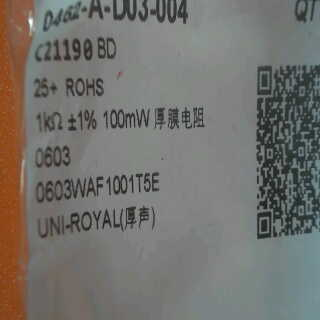1kR: (32, 109, 66, 134)
